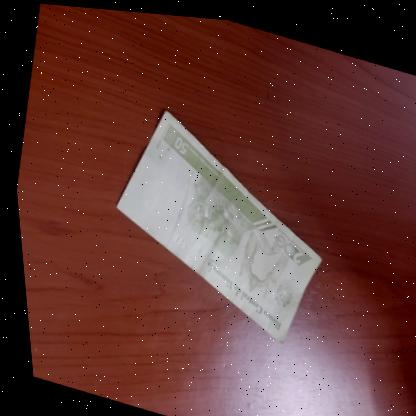fifty-back-vef: (85, 94, 344, 350)
